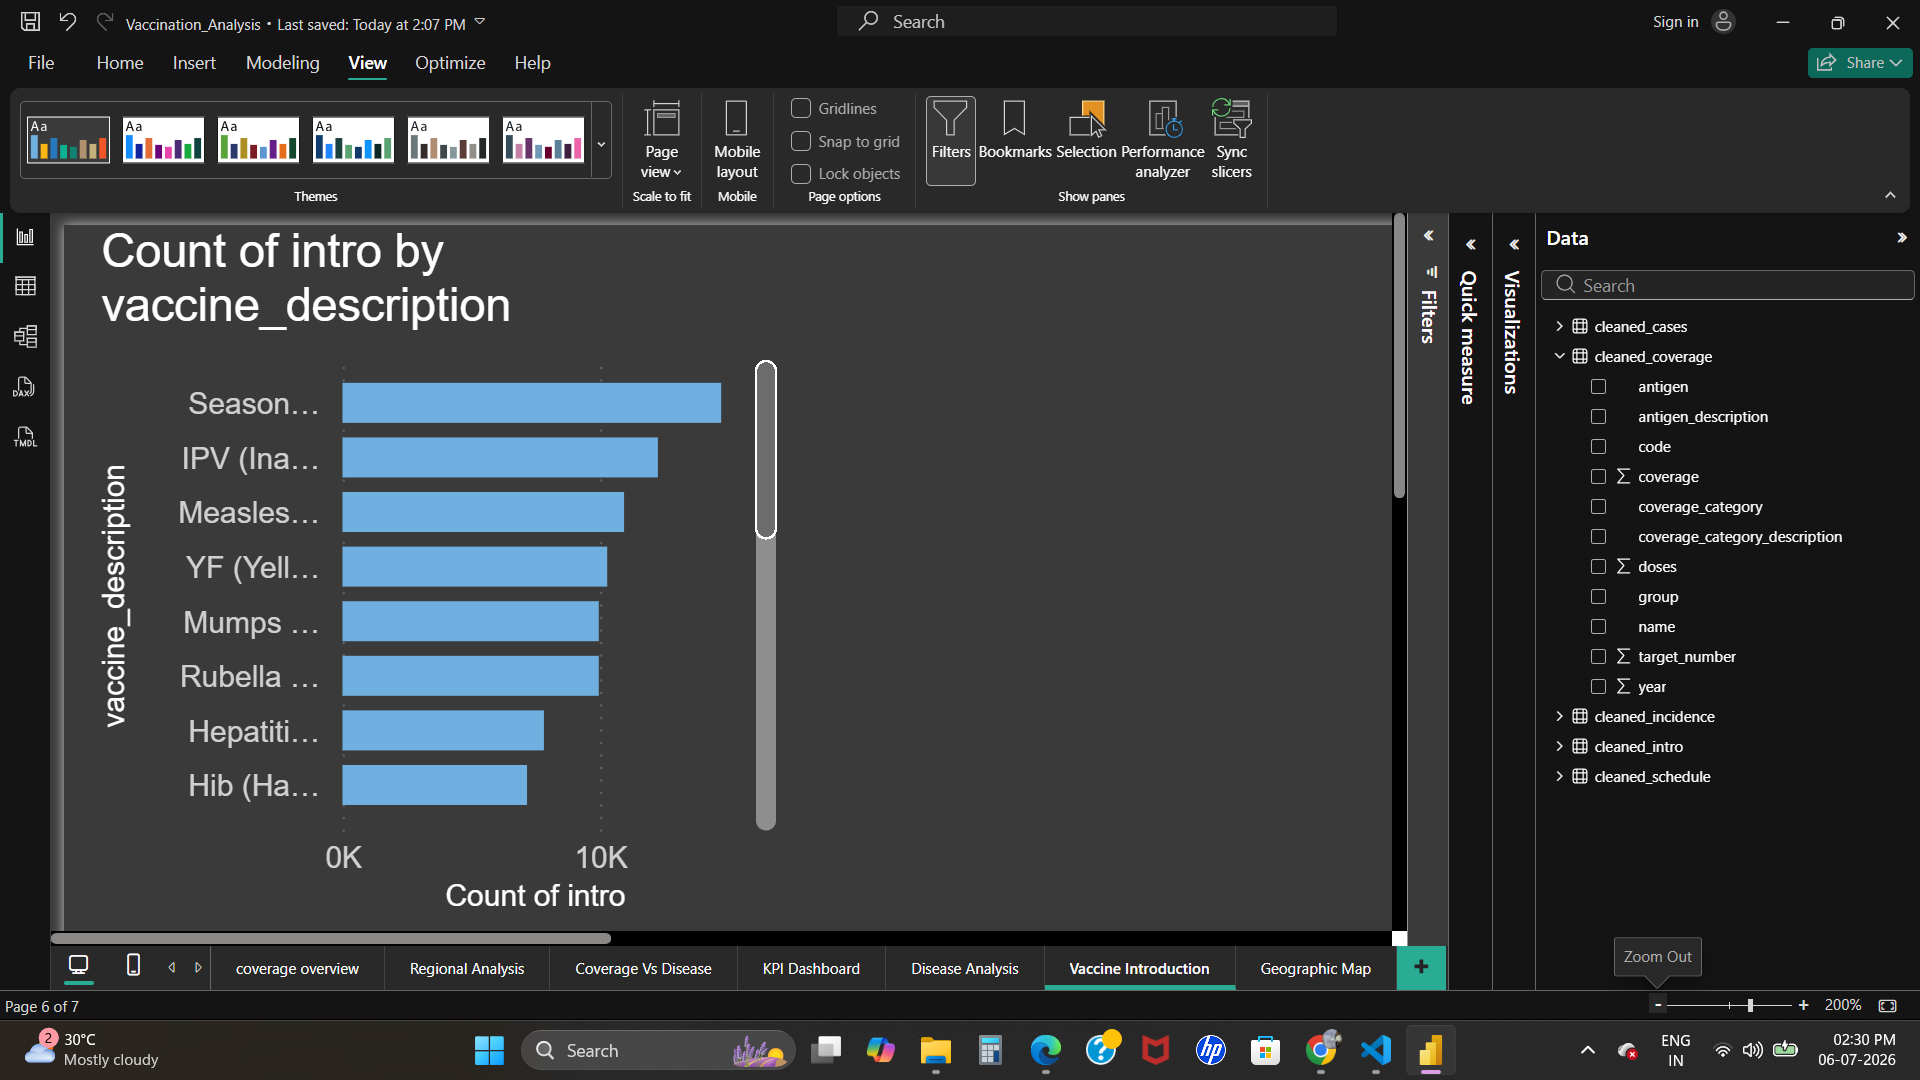

The dashboard page shown, as its layout file describes it:
{"tool":"powerbi","page":{"name":"Vaccine Introduction","canvas":[1280,720],"ordinal":5},"visuals":[{"type":"clusteredBarChart","fields":{"Y":["CountNonNull(cleaned_intro.intro)"],"Category":["cleaned_intro.vaccine_description"]},"box":[10,0,280,280],"z":0}]}

Visuals, with their boxes on the page's 1280x720 design canvas (x1, y1, x2, y2). These are canvas units, not pixel positions in the 1920x1080 screenshot, which may show the page scaled, cropped or inside an application window:
clusteredBarChart - CountNonNull(cleaned_intro.intro) x cleaned_intro.vaccine_description: [x1=10, y1=0, x2=290, y2=280]
